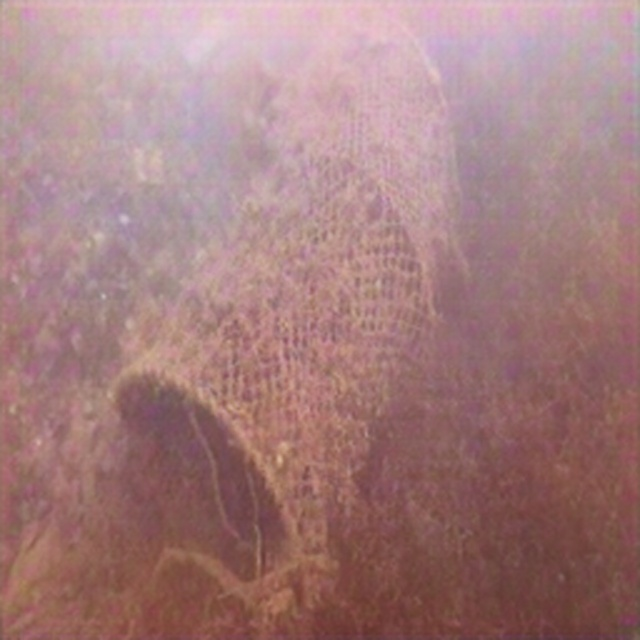mine: (113, 12, 458, 640)
